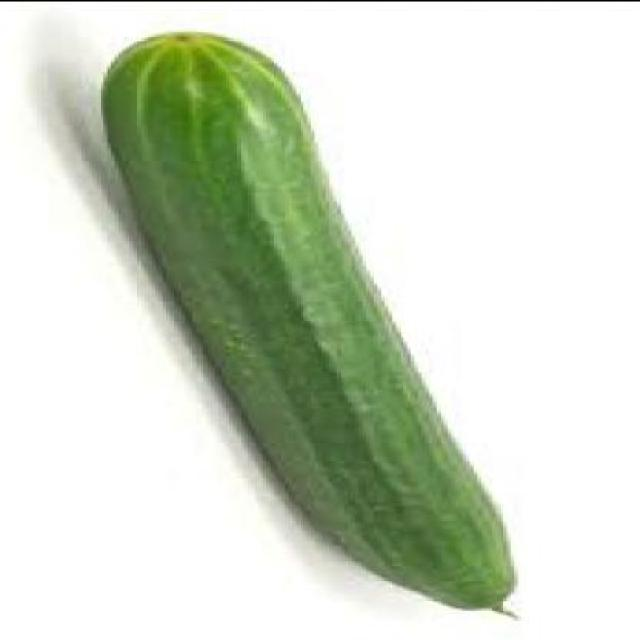BIODEGRADABLE: (100, 29, 518, 613)
